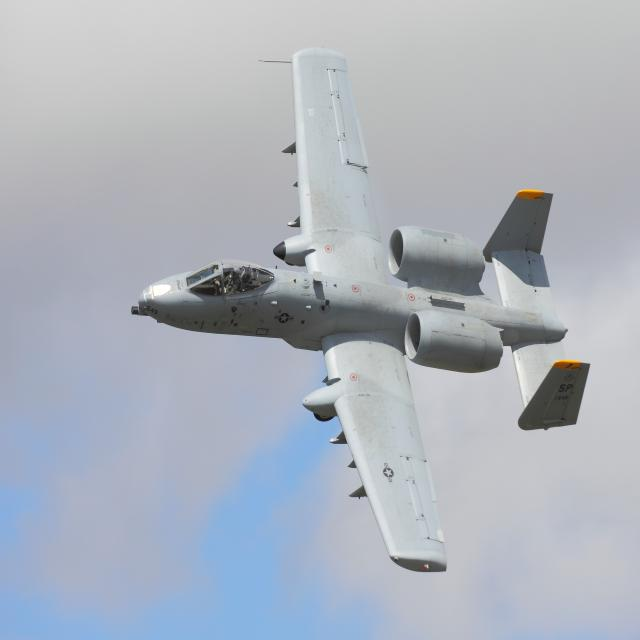A10: (121, 37, 598, 586)
